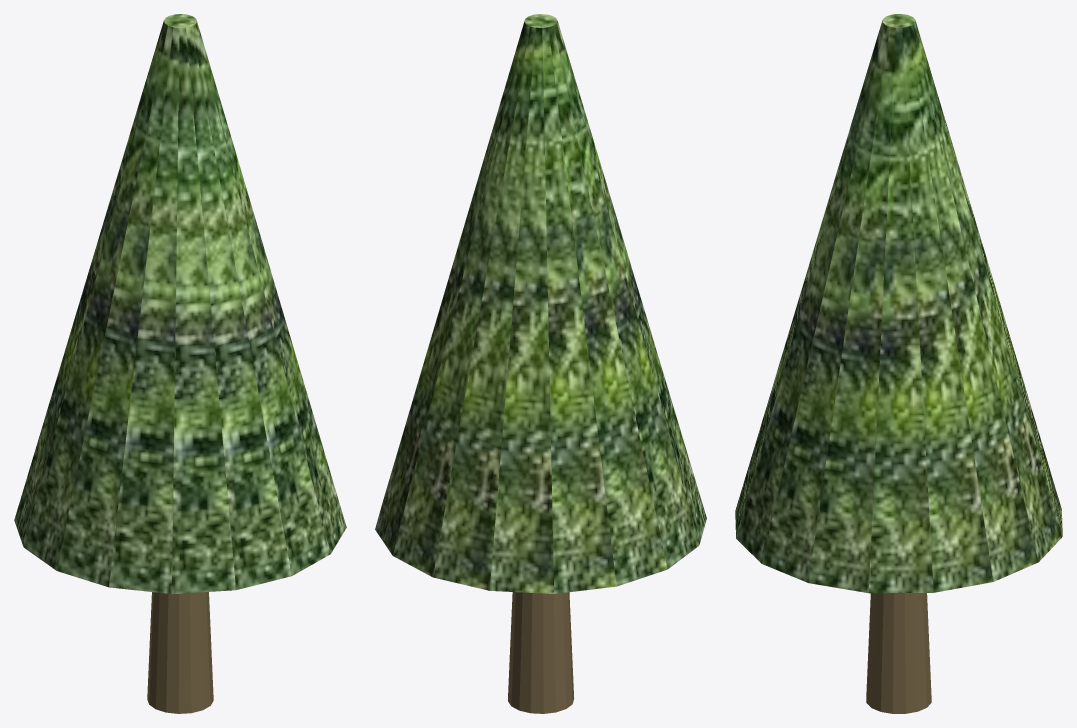
Rendered from GMLID_SO0200811_525_4986.dae.
3 views of the same model, side by side, from view 1: azimuth 30°, elevation 25°; view 2: azimuth 150°, elevation 25°; view 3: azimuth 270°, elevation 25° (orthographic).
Bounding box in the file's own units: 6.58 × 6.58 × 15.07.
Materials: 3 (1 with a texture image).
